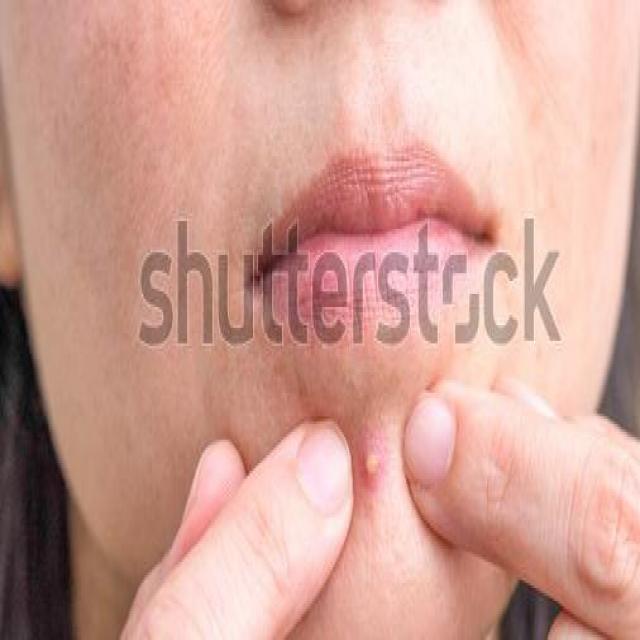Pimples: (364, 442, 382, 479)
